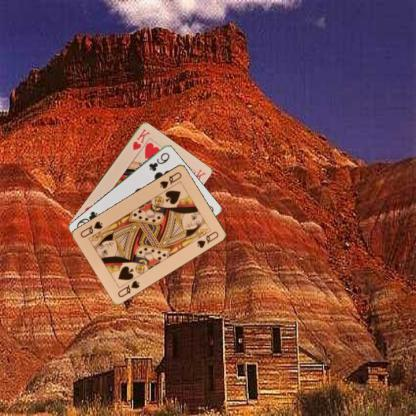9c: (146, 150, 171, 172)
Kh: (130, 126, 151, 151)
Qs: (115, 277, 141, 299), (157, 170, 183, 190)
